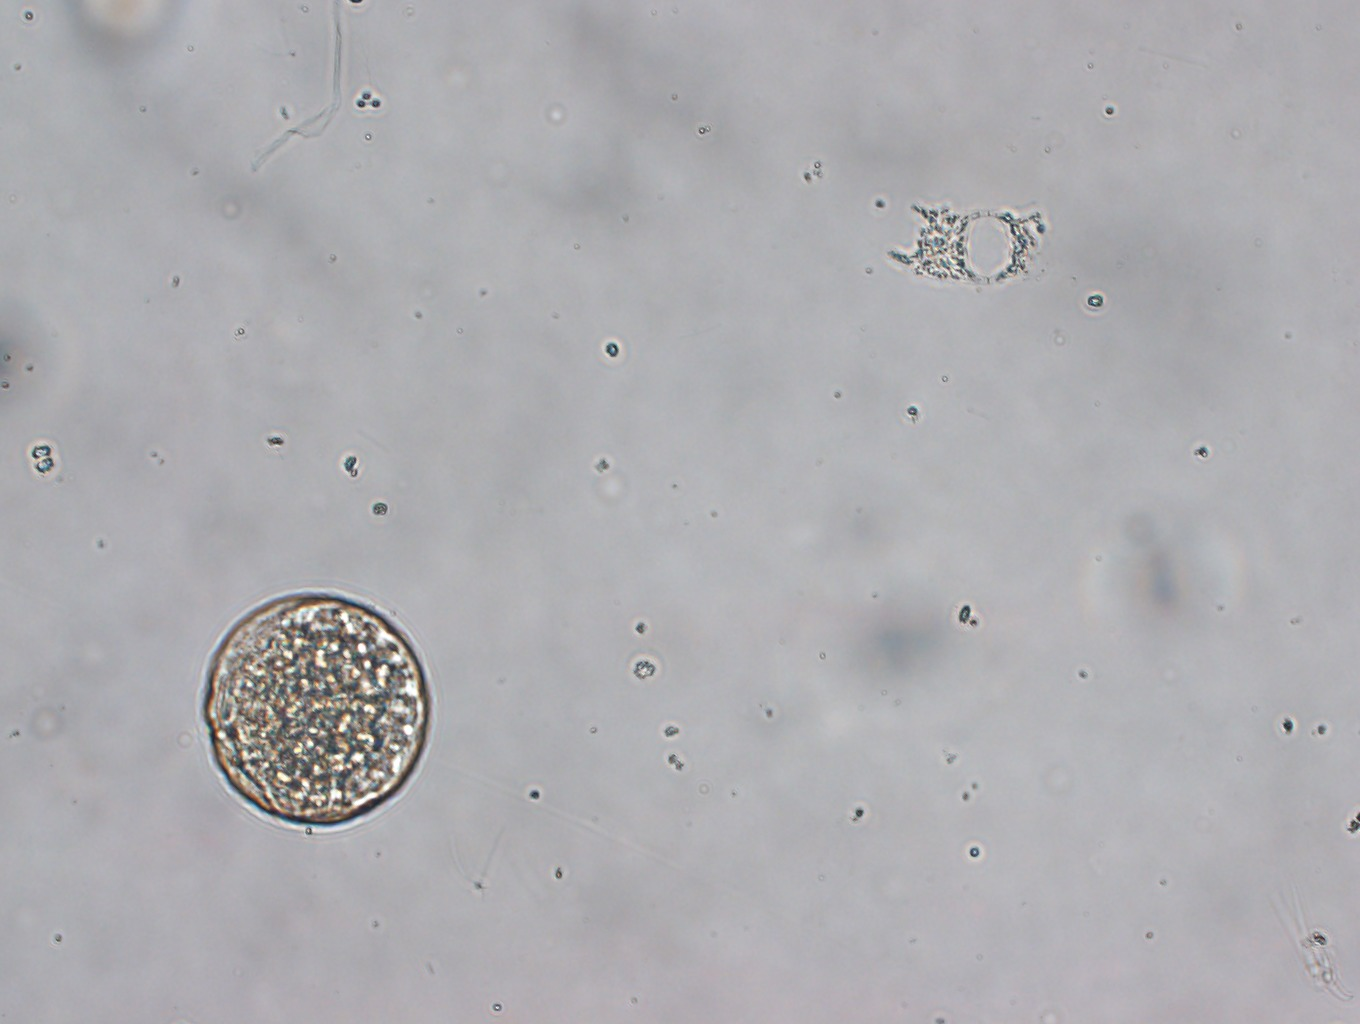coscinodiscus: (199, 589, 433, 828)
eucampia: (887, 202, 1050, 287)
